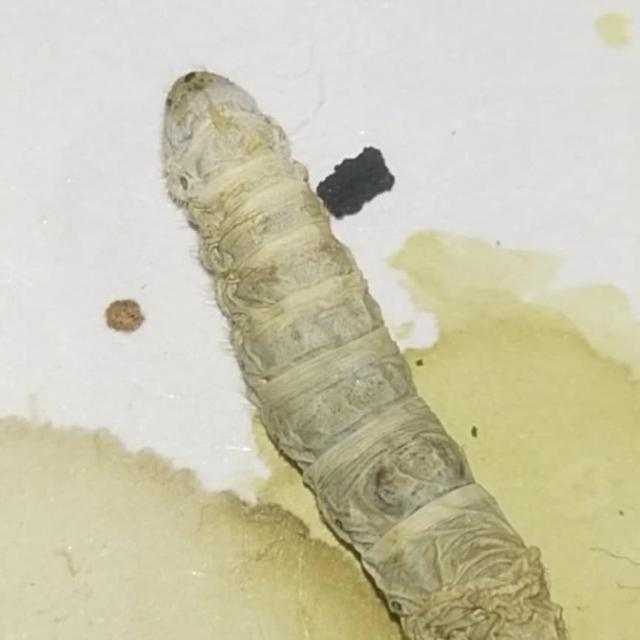Grasserie: (146, 49, 570, 640)
